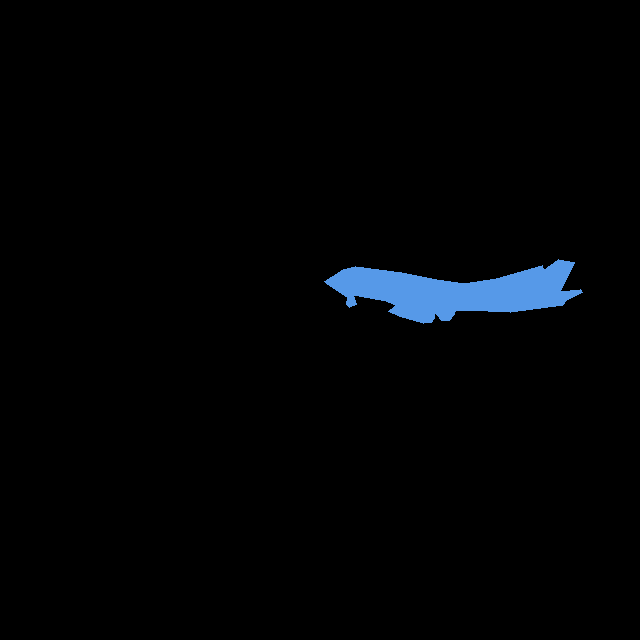Airplane: (324, 259, 582, 323)
